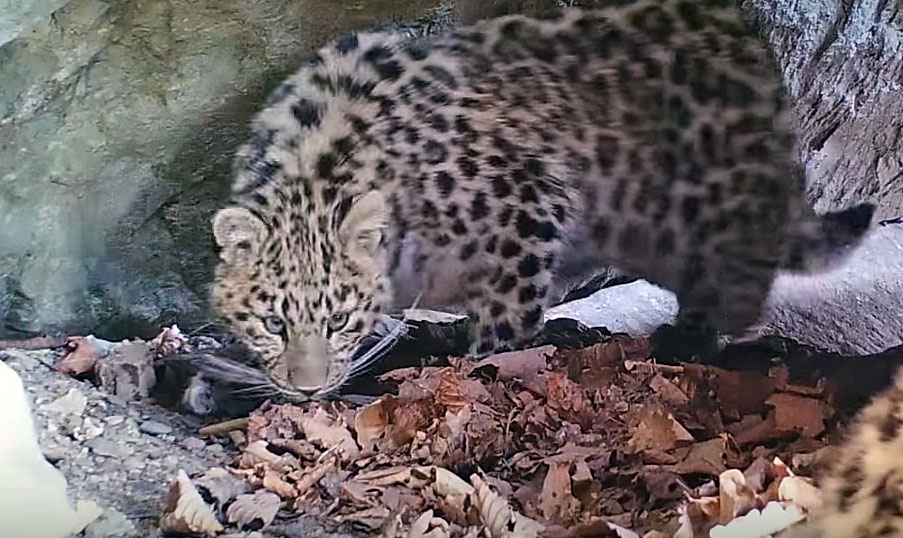amur_leopard: (126, 14, 884, 410)
